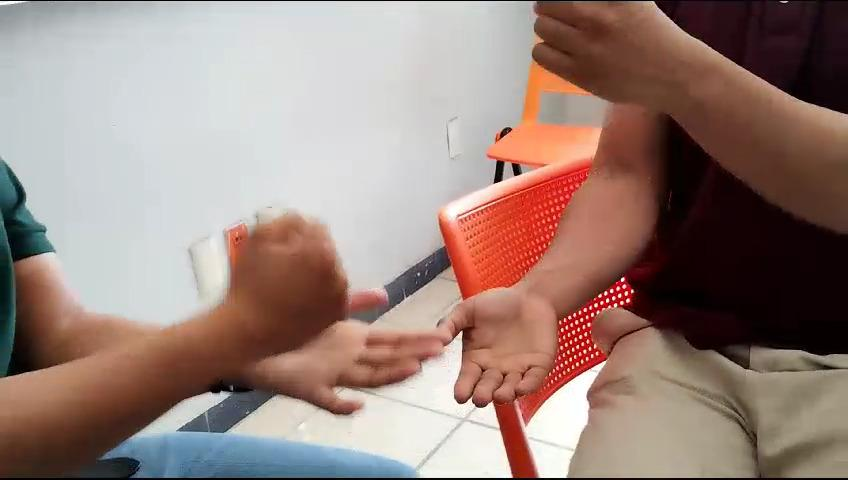Paper: (429, 268, 576, 411)
Stone: (214, 194, 372, 359), (527, 0, 687, 132)
